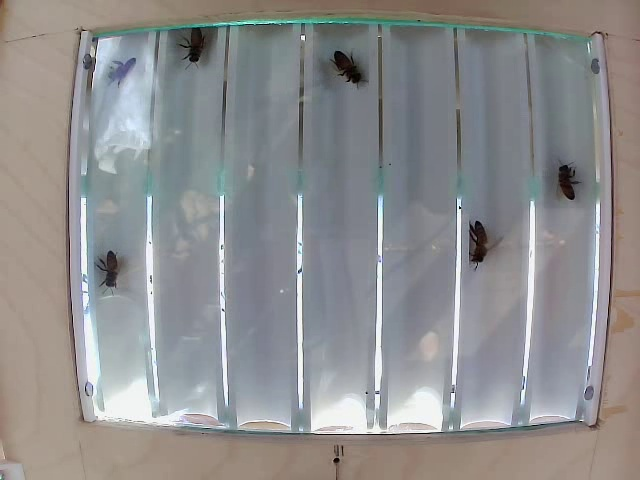bee: (451, 198, 504, 270), (322, 48, 380, 90), (180, 25, 212, 74), (101, 249, 133, 289), (104, 56, 141, 90), (558, 174, 591, 210)
